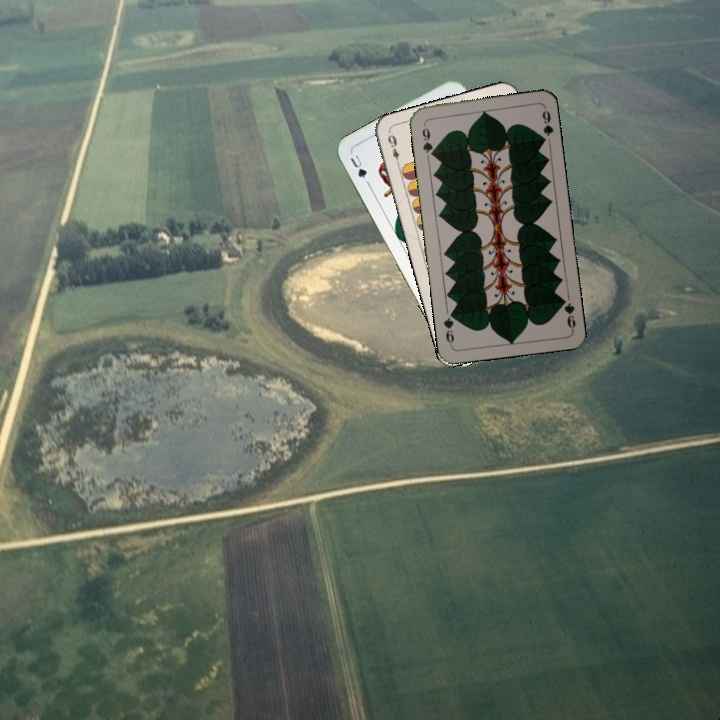E9: (384, 131, 402, 169)
G9: (556, 293, 578, 332), (418, 120, 437, 160)
GU: (346, 150, 372, 187)
